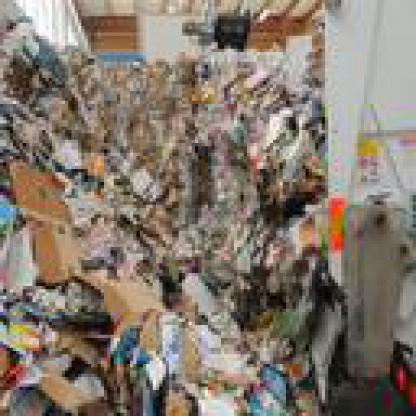CARDBOARD: (65, 58, 185, 266), (185, 36, 322, 195), (162, 322, 318, 412), (0, 0, 68, 185), (185, 192, 315, 280), (13, 322, 114, 412), (3, 156, 72, 280), (104, 309, 179, 413), (234, 250, 318, 325), (71, 150, 117, 264), (72, 267, 156, 325), (0, 273, 104, 319), (172, 270, 240, 338), (0, 315, 42, 413), (0, 221, 39, 279)
